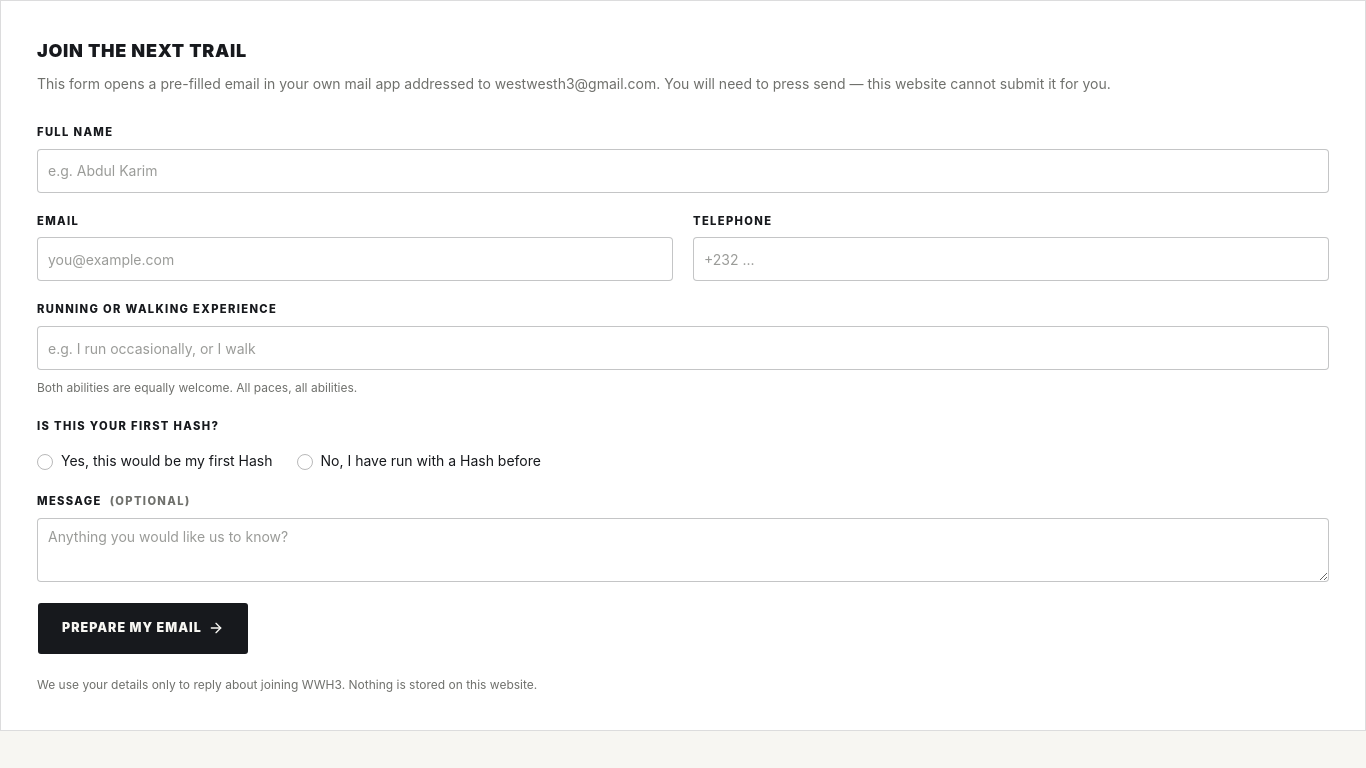
Scenario: join form validation › rejects a malformed email address
The image size is (1366, 768).
Type "Alpha Beta" into the field labelled "Full name" at (683, 170), box [37, 148, 1329, 192]
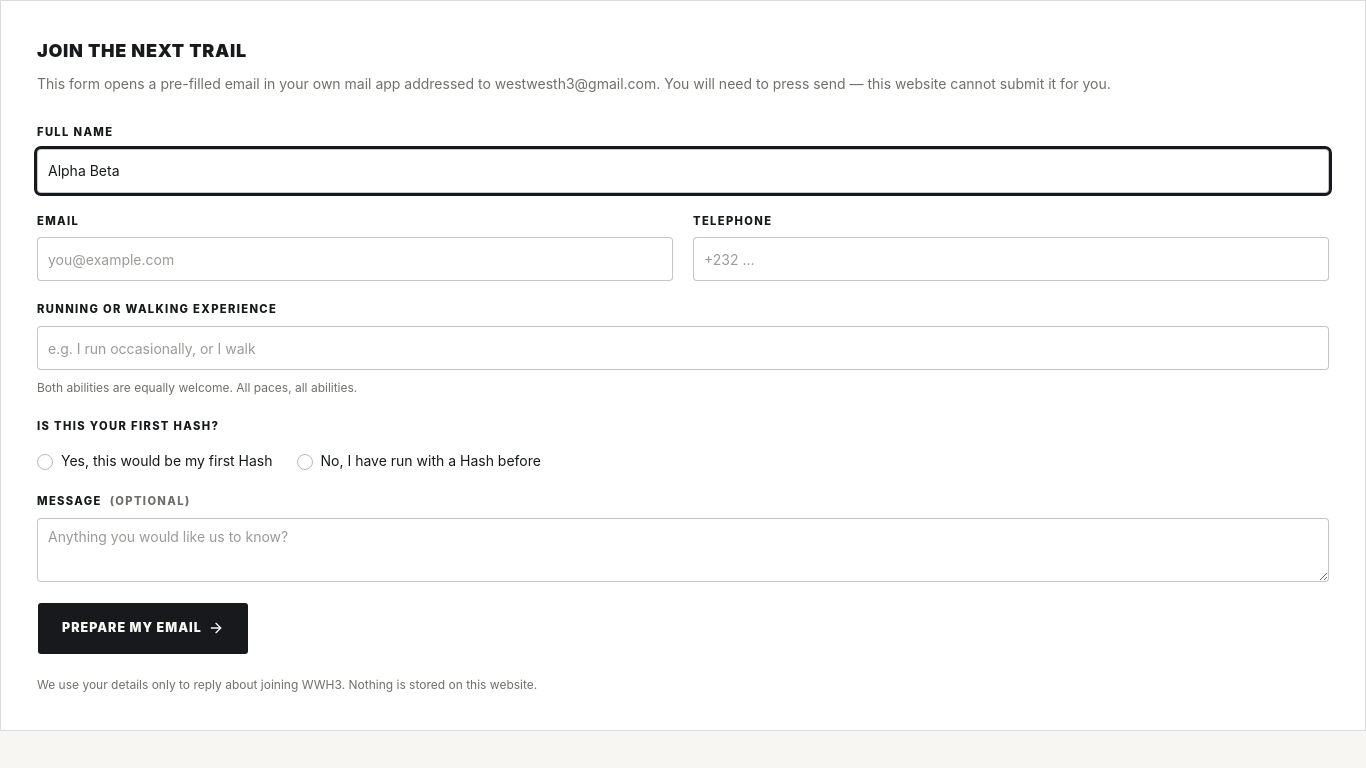
Type "not-an-email" into the field labelled "Email" at (355, 259), box [37, 237, 673, 281]
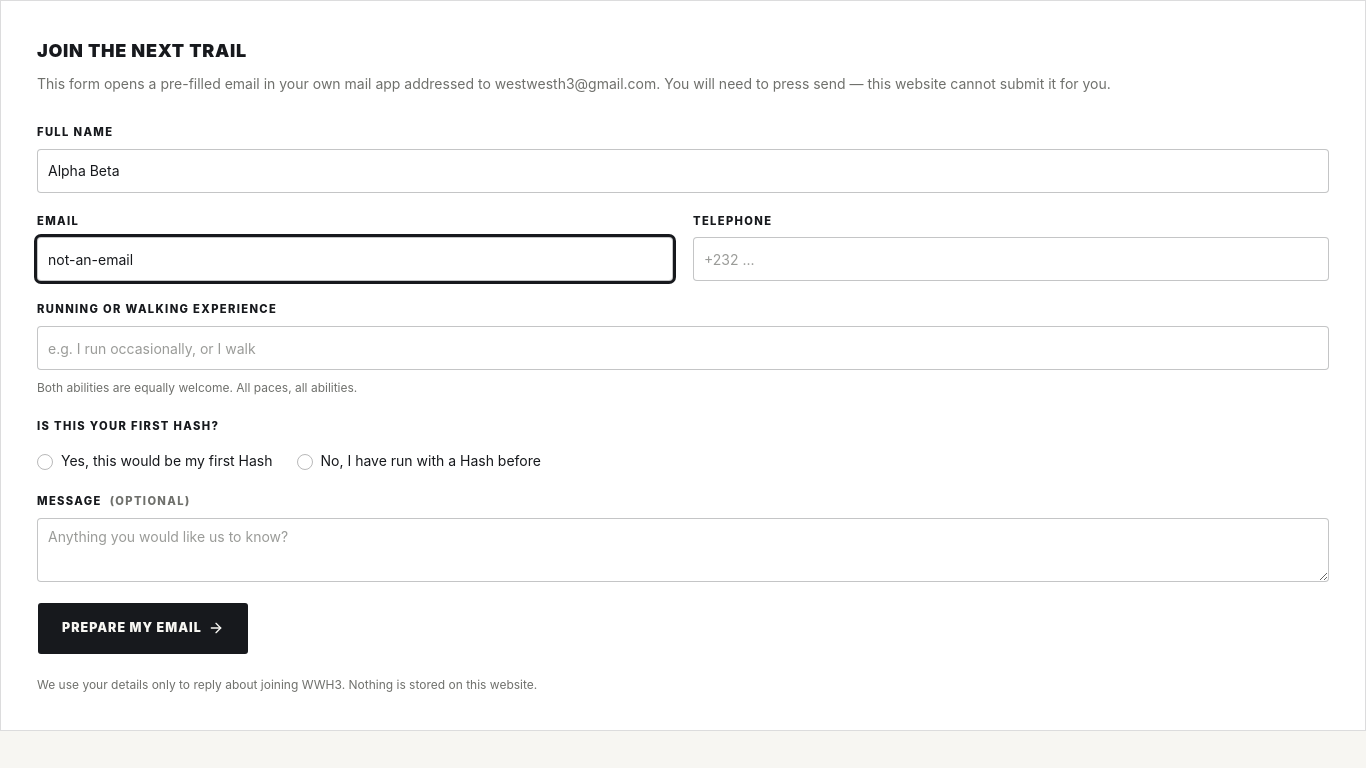
Type "+232 31 251240" into the field labelled "Telephone" at (1011, 259), box [693, 237, 1329, 281]
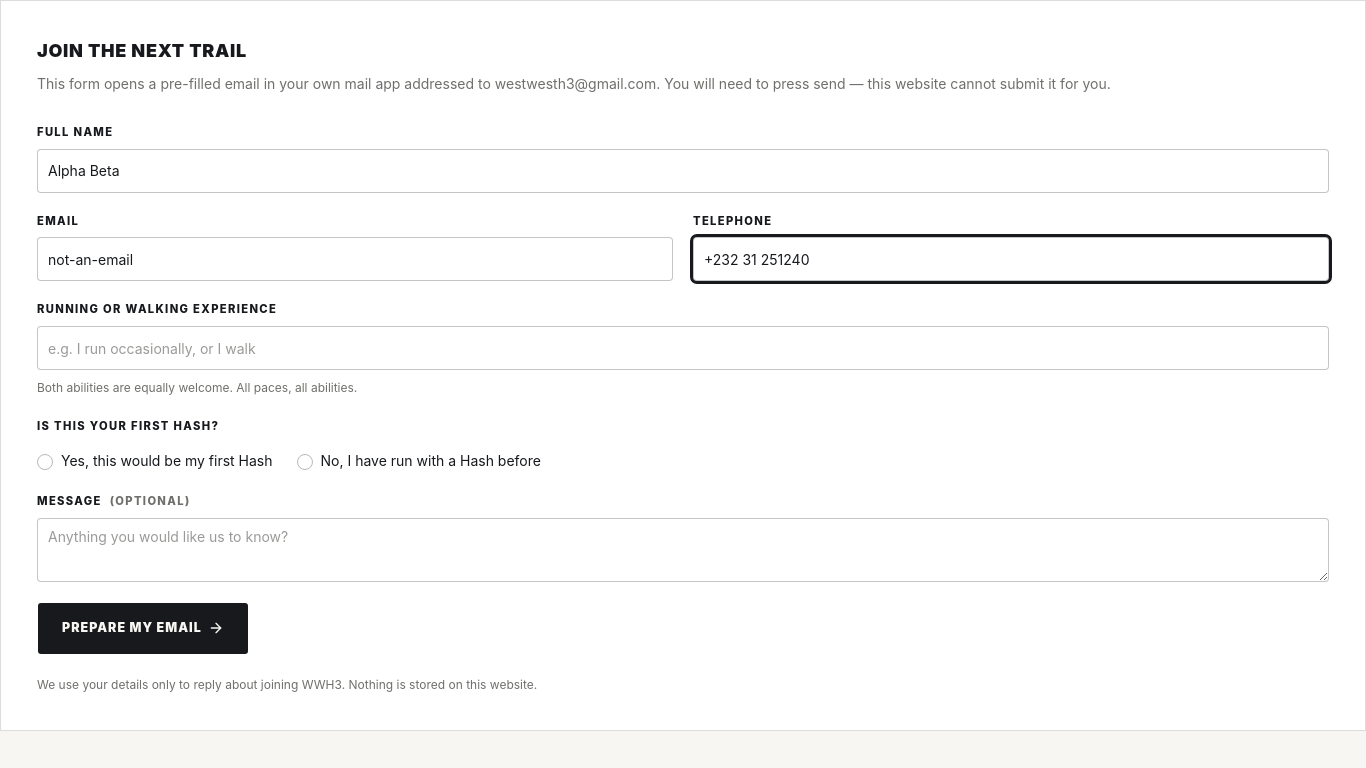
Type "I walk and run." into the field labelled "Running or walking experience" at (683, 348), box [37, 326, 1329, 370]
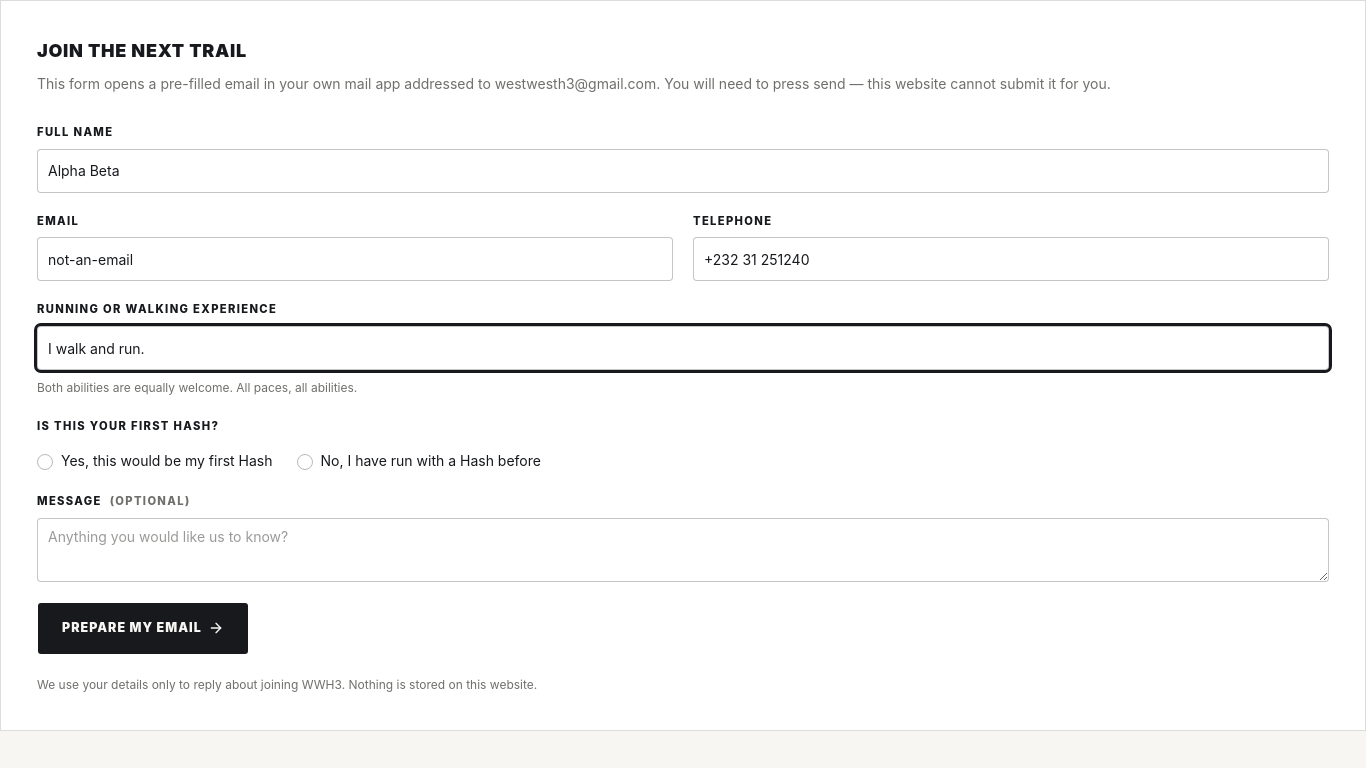
Click the radio button named "yes, this would be my first hash" next to "Yes, this would be my first Hash" at (45, 462), box [37, 454, 53, 470]
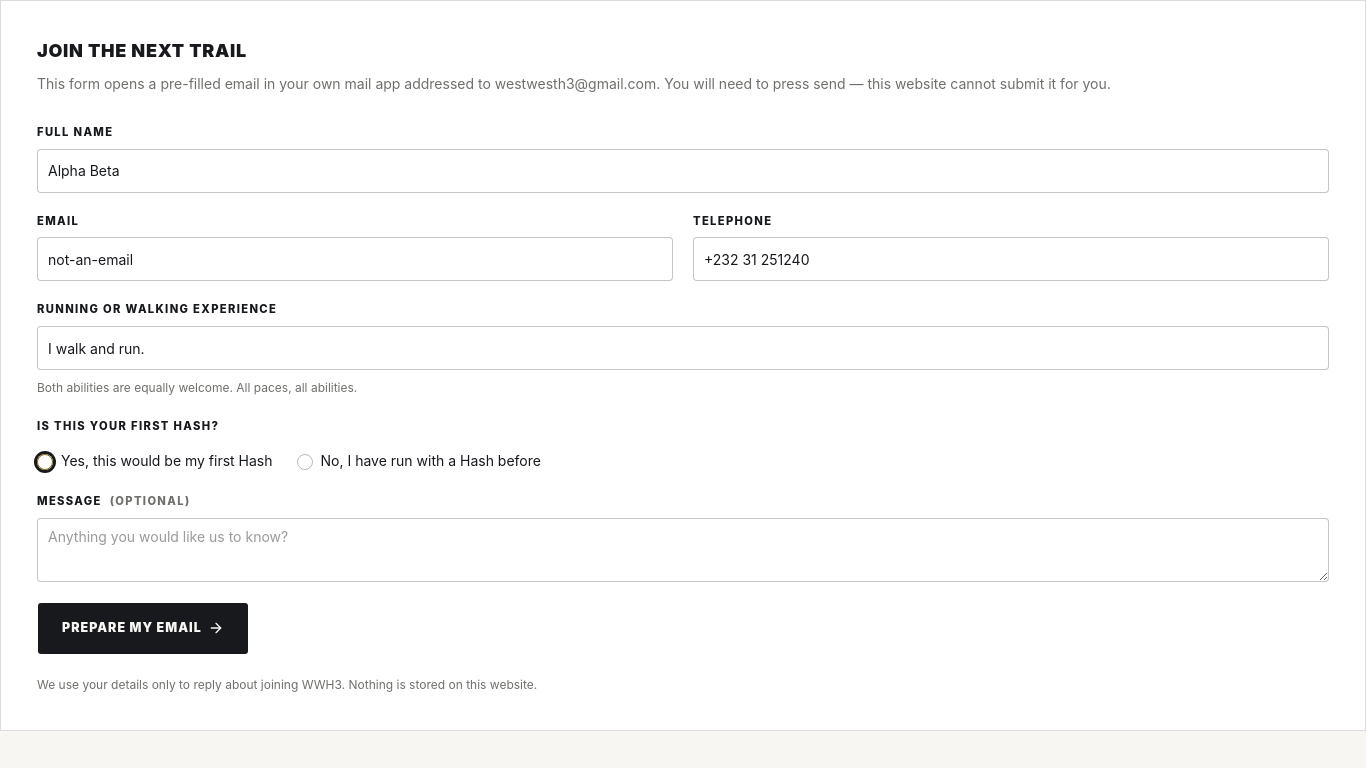
Click the button "Prepare my email" at (143, 628), box [37, 602, 249, 655]
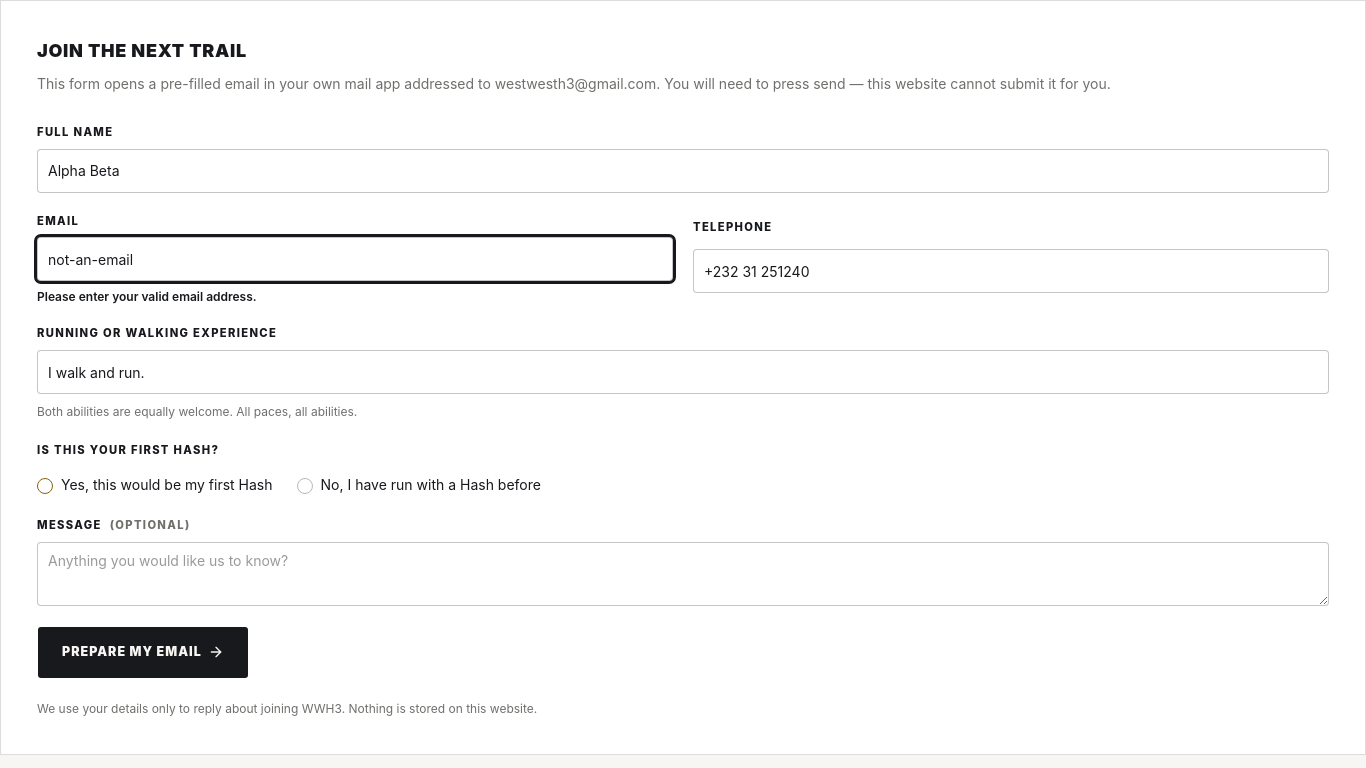
Expected: the text "Please enter your valid email address." is shown, [37, 289, 257, 304]
